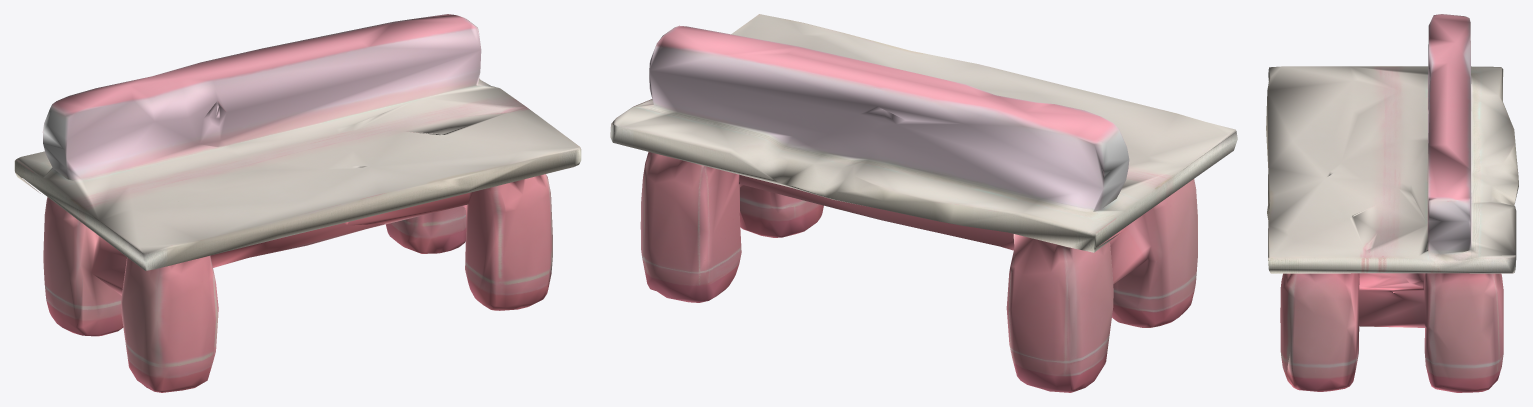
File: regr_wall_bench.fbx
3 renders of one model, left to right at view 1: azimuth 30°, elevation 25°; view 2: azimuth 150°, elevation 25°; view 3: azimuth 270°, elevation 25°, orthographic. The views are drawn at different scales.
Parts seen in each view (by area): view 1: Mesh1.0; view 2: Mesh1.0; view 3: Mesh1.0.
Boxes of the visible parts, <box> form: Mesh1.0: <box>14,14,581,392</box>; Mesh1.0: <box>610,14,1237,392</box>; Mesh1.0: <box>1266,14,1518,392</box>.
Bounding box in the file's own units: 190 × 96.39 × 106.
1 material, 1 textured.
